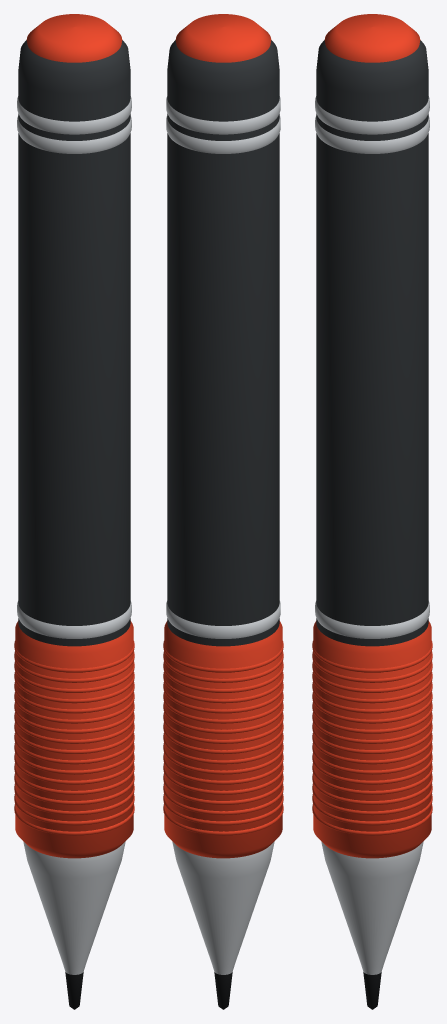
Rendered from annotator-stylus.glb.
3 renders of one model, left to right at view 1: azimuth 90°, elevation 25°; view 2: azimuth 150°, elevation 25°; view 3: azimuth 270°, elevation 25°, orthographic.
Parts seen in each view (by area): view 1: Anodized graphite.001, Vermilion ceramic.001, Machined aluminum.001, Graphite tip.001; view 2: Anodized graphite.001, Vermilion ceramic.001, Machined aluminum.001, Graphite tip.001; view 3: Anodized graphite.001, Vermilion ceramic.001, Machined aluminum.001, Graphite tip.001.
Boxes of the visible parts, box(x1,y1,x2,y2) form: Anodized graphite.001: box(18, 40, 130, 646); Vermilion ceramic.001: box(14, 14, 134, 858); Machined aluminum.001: box(17, 96, 131, 974); Graphite tip.001: box(65, 972, 83, 1009); Anodized graphite.001: box(167, 40, 279, 646); Vermilion ceramic.001: box(163, 14, 283, 858); Machined aluminum.001: box(166, 96, 280, 974); Graphite tip.001: box(214, 972, 232, 1009); Anodized graphite.001: box(316, 40, 428, 646); Vermilion ceramic.001: box(312, 14, 432, 858); Machined aluminum.001: box(315, 96, 429, 974); Graphite tip.001: box(363, 972, 381, 1009).
Size of the model in its own units: 0.504 by 4.54 by 0.504.
